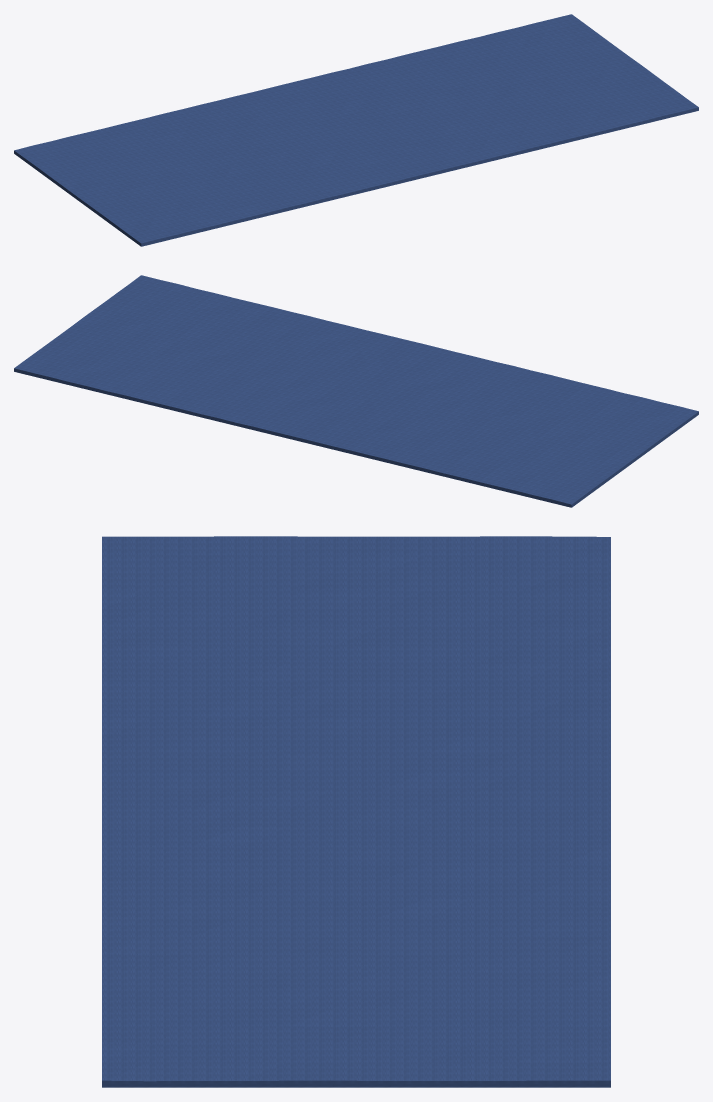
The model's file is bay_water.fbx.
The picture shows the model from 3 angles, top to bottom: view 1: azimuth 30°, elevation 25°; view 2: azimuth 150°, elevation 25°; view 3: azimuth 270°, elevation 25°; orthographic projection. The views are drawn at different scales.
Parts seen in each view (by area): view 1: bay_water; view 2: bay_water; view 3: bay_water.
Boxes of the visible parts, x1,y1,x2,y2 form: bay_water: (14, 14, 698, 246); bay_water: (14, 275, 698, 507); bay_water: (102, 536, 610, 1087).
Size of the model in its own units: 9120 by 56.5 by 3605.
